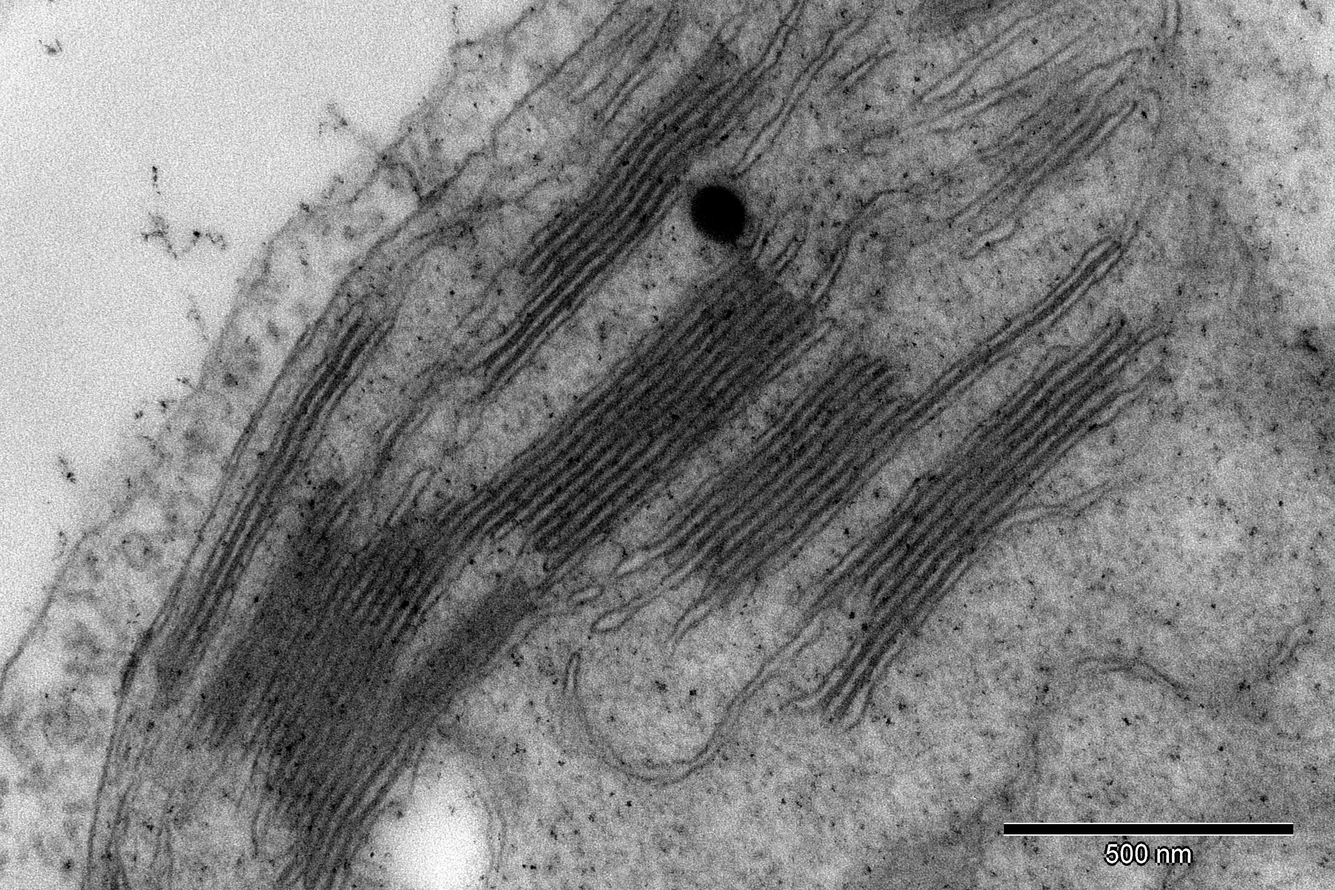granum: (174, 472, 549, 889), (800, 305, 1144, 734), (459, 244, 838, 584), (462, 35, 779, 402), (146, 294, 397, 719), (644, 332, 933, 626)
